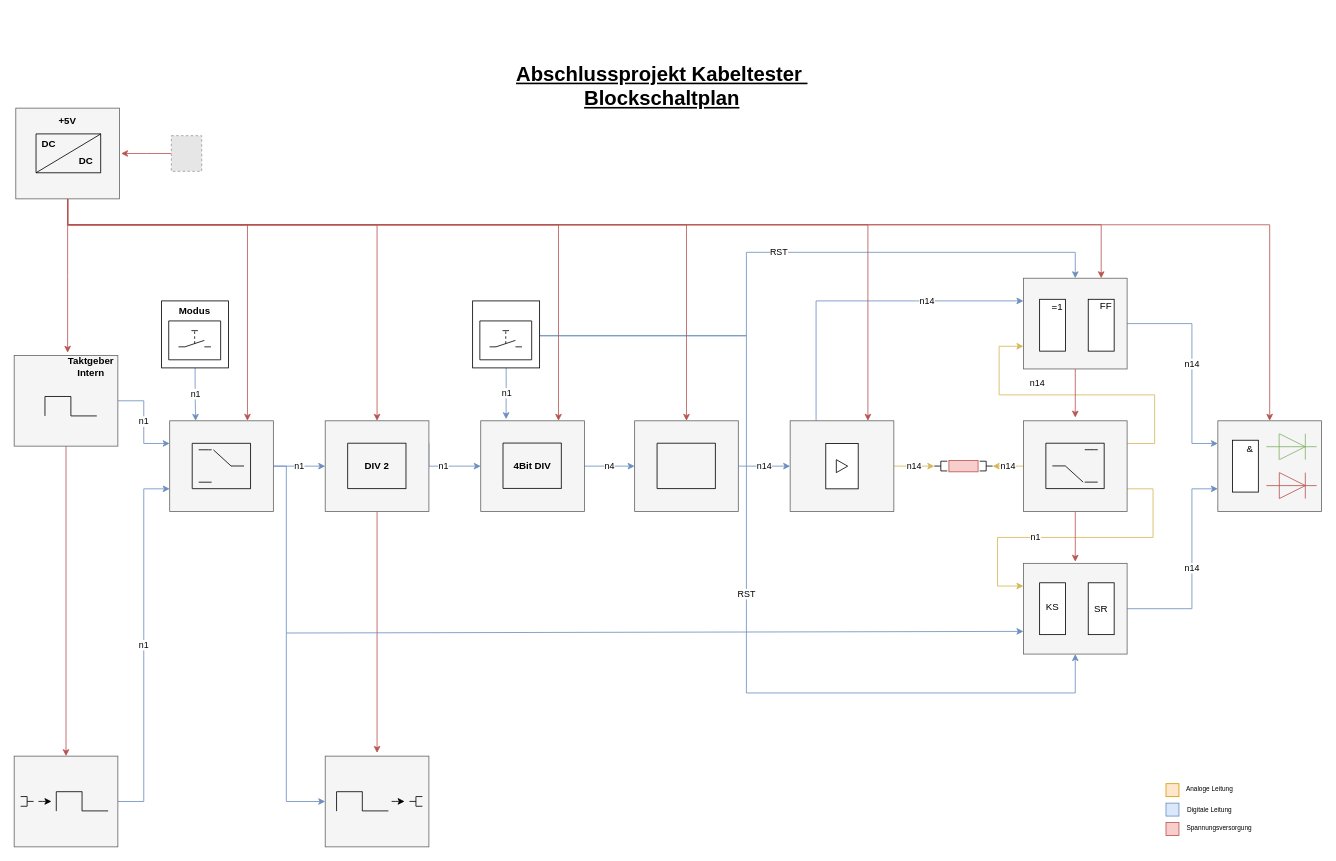
Image size: 1336x861. Some labels were removed from this diagram. Grey dashed boxes stand in for pictures. The shapes that lost their labels are listed below. From the top down, each one's centre as x and y in pixels, then its label:
pixel 506 334: Start
pixel 686 466: 4 to 16 Line Decoder
pixel 963 466: Leitung
pixel 65 801: Taktgeber Input
pixel 376 801: Taktgeber Output
